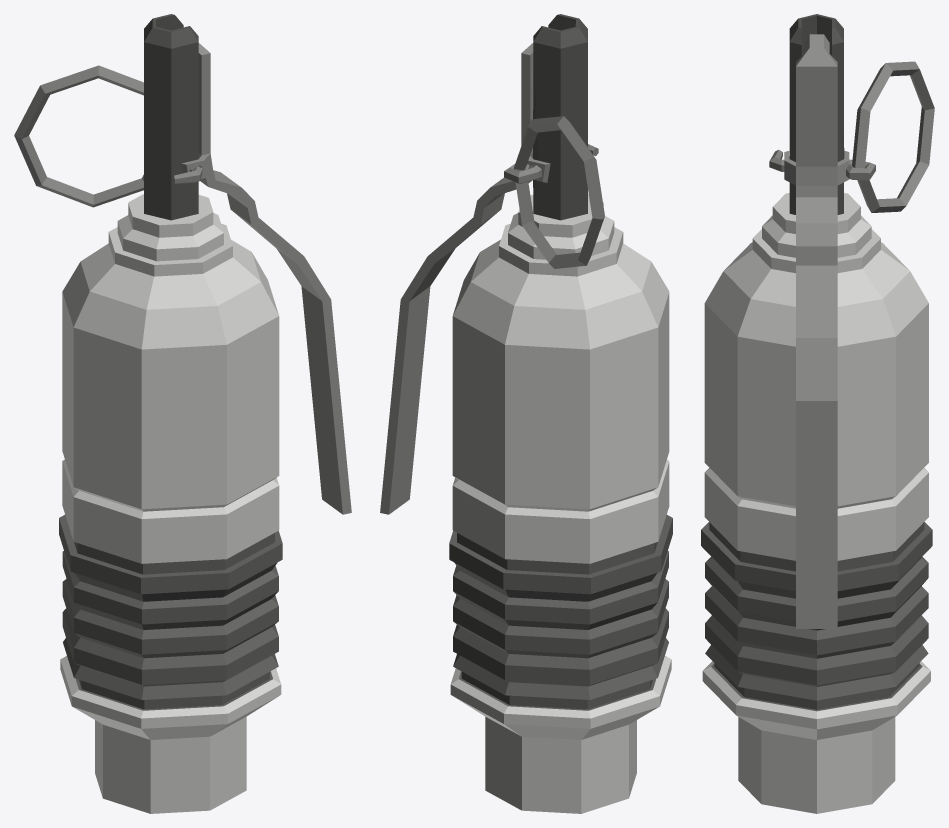
Rendered from SM_Bomb_012.fbx.
3 renders of one model, left to right at view 1: azimuth 30°, elevation 25°; view 2: azimuth 150°, elevation 25°; view 3: azimuth 270°, elevation 25°, orthographic.
Visible parts, largest first — view 1: SM_Bomb_012; view 2: SM_Bomb_012; view 3: SM_Bomb_012.
Boxes of the visible parts, x1,y1,x2,y2 form: SM_Bomb_012: (14,14,351,813); SM_Bomb_012: (380,14,672,813); SM_Bomb_012: (701,14,934,813).
Bounding box in the file's own units: 2.63 × 7.05 × 1.97.
Materials: 1 (1 with a texture image).
